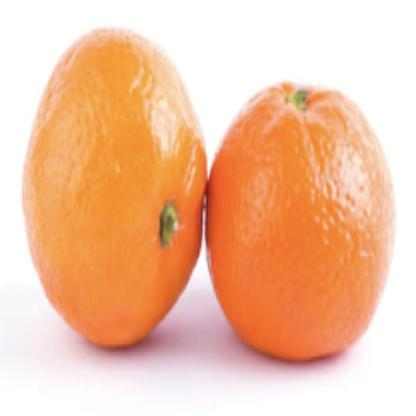fresh: (22, 28, 392, 362)
